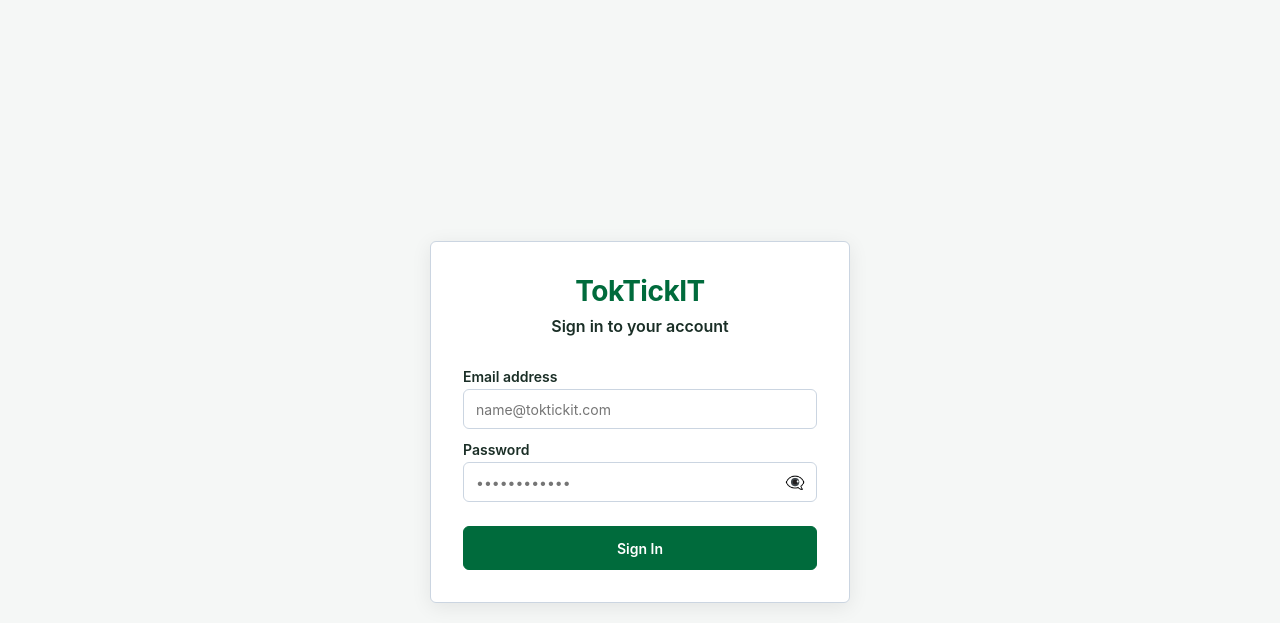
Lab 3 Issue 2 Bug Fixes - Auth Flow Integration Tests › Bug 1 & 2: logs in successfully, immediately renders tickets (no hang), and confirms NO Change Requester button exists
# Submit credentials
Type "jennifer@toktick.it" into the field with test id "login-email-input".
click(640, 409); type("jennifer@toktick.it")  # box [463,389,817,429]
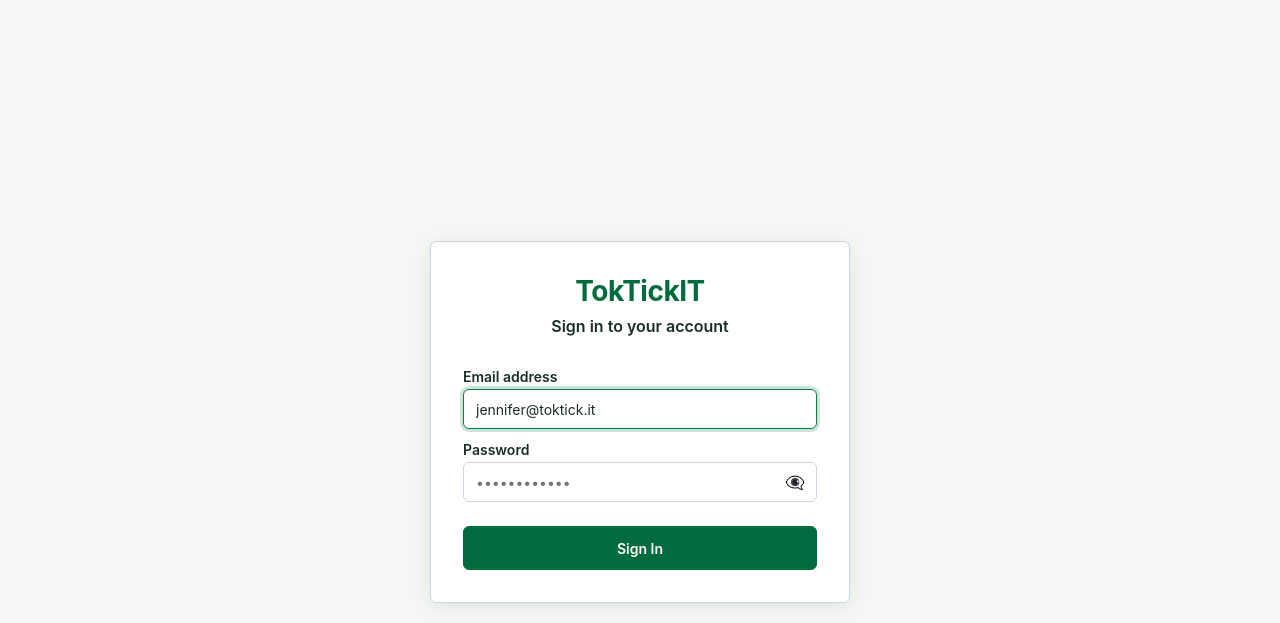
Type "TokTickIT2026!" into the password field with test id "login-password-input".
click(640, 482); type("TokTickIT2026!")  # box [463,462,817,502]
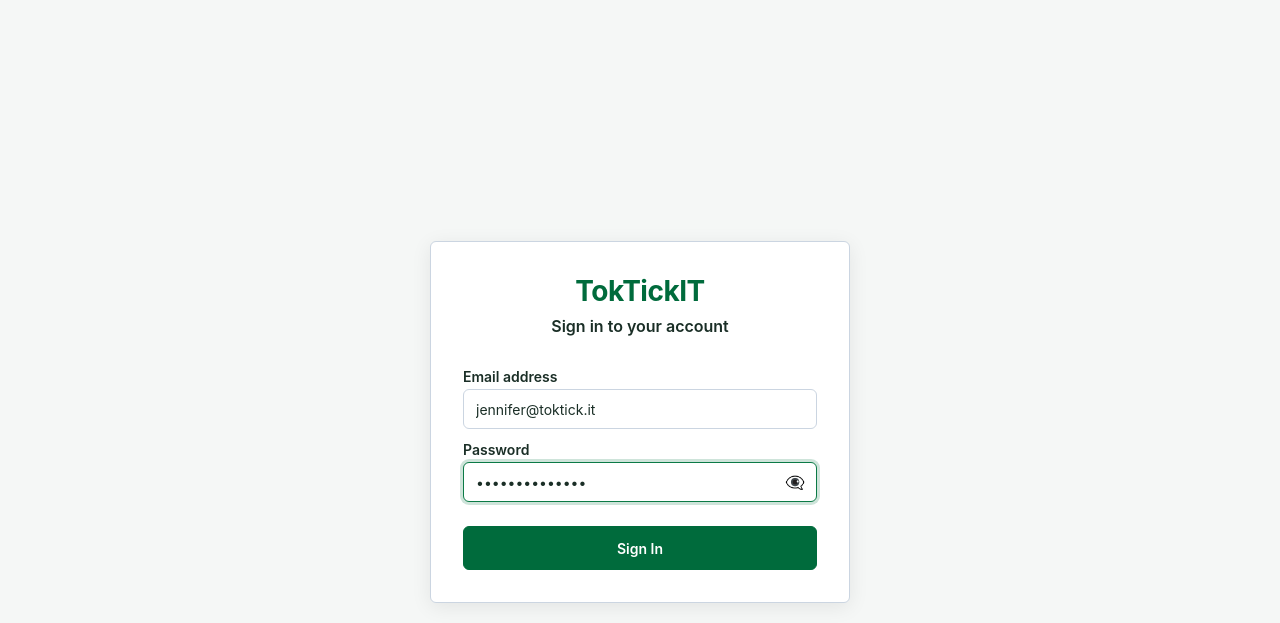
Click the button with test id "login-submit-btn".
click(640, 548)  # box [463,526,817,570]
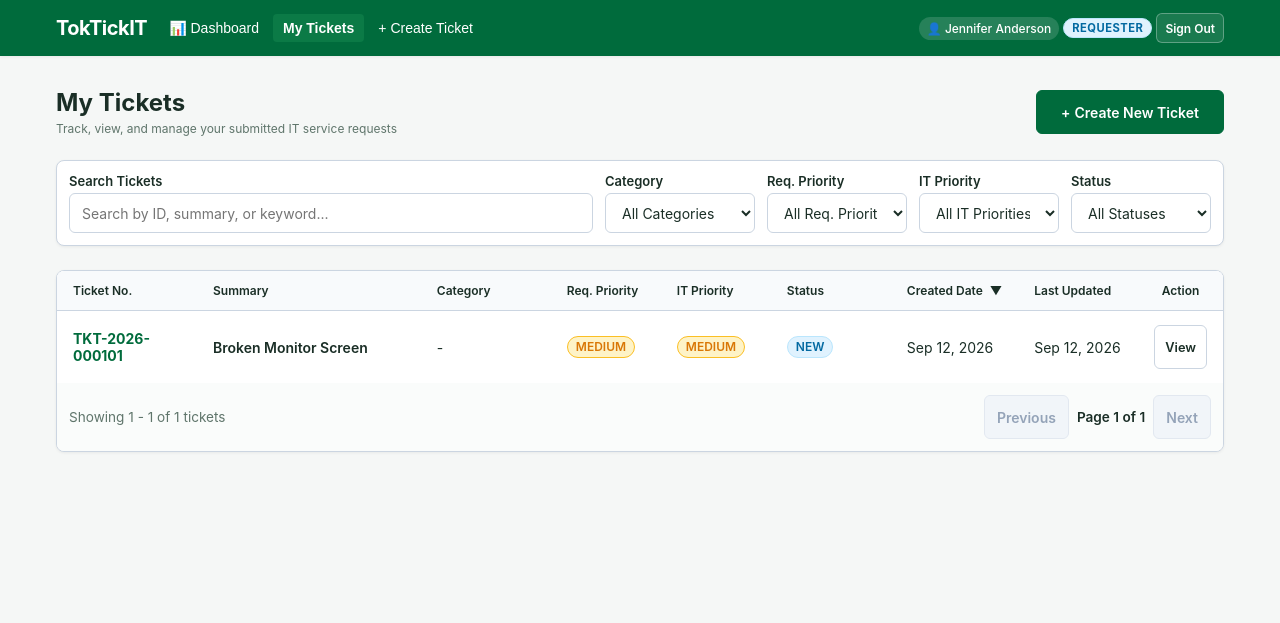
expect the text with test id "requester-name-display" reads "Jennifer Anderson": met, box [945,20,1051,36]
expect the text with test id "user-role-badge" reads "REQUESTER": met, box [1072,21,1143,35]
